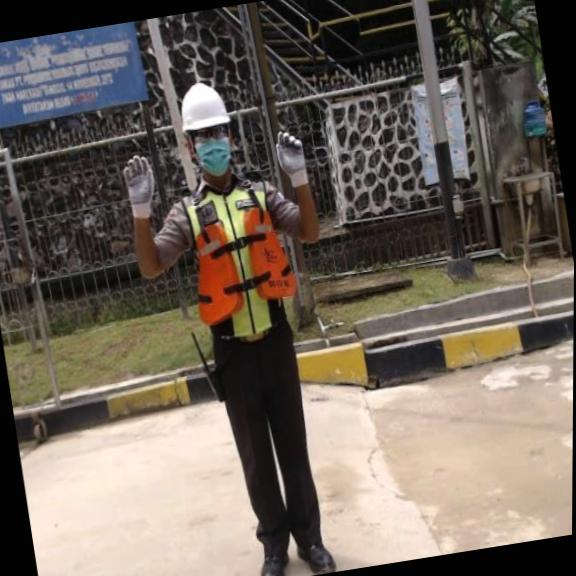safety_vest: (180, 198, 305, 329)
